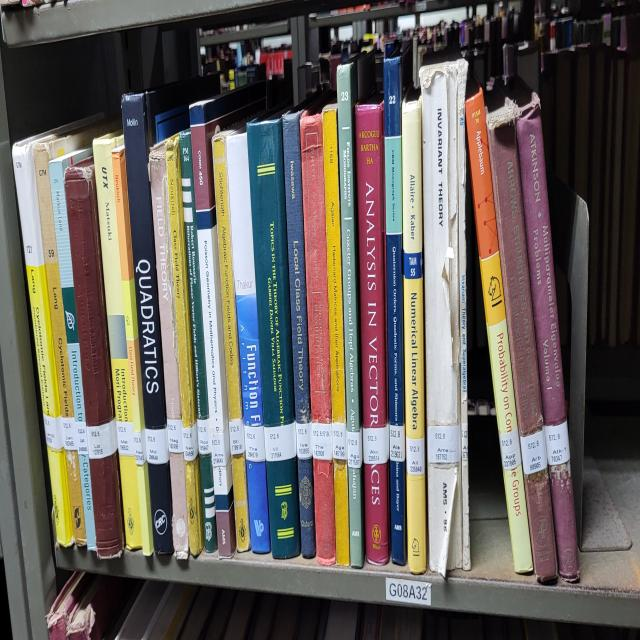Book: (486, 97, 558, 582), (465, 84, 532, 574), (190, 89, 260, 557), (516, 95, 579, 582), (121, 87, 180, 552), (420, 60, 470, 576), (12, 135, 72, 547), (65, 160, 125, 557), (248, 116, 301, 557), (92, 133, 141, 549), (49, 146, 95, 549), (226, 133, 270, 552), (111, 146, 154, 555), (149, 141, 190, 560), (165, 135, 204, 557), (300, 111, 336, 565), (355, 100, 390, 565), (34, 133, 90, 422), (180, 130, 218, 552), (212, 133, 250, 552), (338, 60, 369, 568), (282, 108, 316, 557), (384, 43, 412, 565), (322, 106, 350, 565), (401, 89, 426, 574), (65, 446, 86, 547)
Label: (520, 427, 548, 476), (86, 419, 118, 460), (264, 422, 296, 463), (428, 425, 460, 463), (544, 422, 570, 465), (362, 425, 389, 465), (499, 427, 521, 471), (145, 427, 169, 465), (244, 425, 265, 463), (311, 422, 332, 460), (211, 427, 230, 468), (406, 436, 425, 476), (44, 414, 64, 449), (116, 422, 135, 457), (182, 422, 199, 460), (296, 422, 312, 460), (332, 422, 348, 460), (389, 425, 405, 463), (168, 419, 184, 455), (229, 419, 245, 455), (348, 427, 362, 468), (62, 417, 78, 449), (198, 419, 211, 455), (75, 422, 89, 455), (134, 430, 146, 465)
